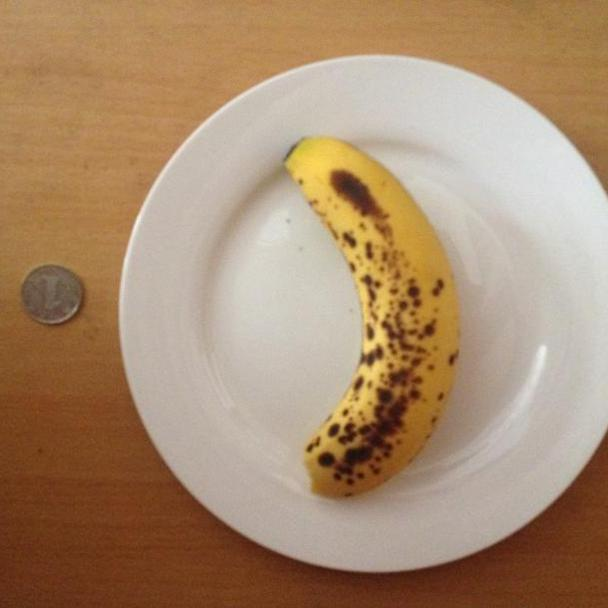banana: (276, 134, 467, 496)
